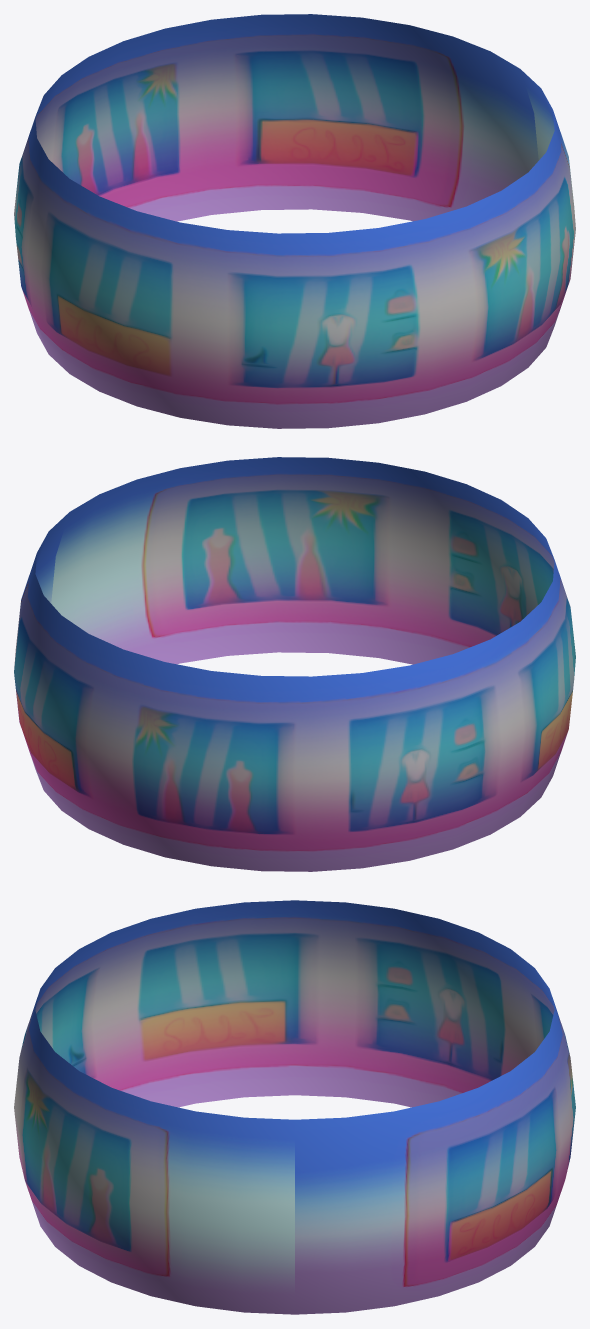
Rendered from skysphere.fbx.
The picture shows the model from 3 angles, top to bottom: view 1: azimuth 30°, elevation 25°; view 2: azimuth 150°, elevation 25°; view 3: azimuth 270°, elevation 25°; orthographic projection.
Visible parts, largest first — view 1: Sphere; view 2: Sphere; view 3: Sphere.
Boxes of the visible parts, left/top/right/bottom form: Sphere: left=14, top=14, right=575, bottom=428; Sphere: left=14, top=457, right=575, bottom=871; Sphere: left=14, top=900, right=575, bottom=1314.
Size of the model in its own units: 4079 by 1561 by 4079.
